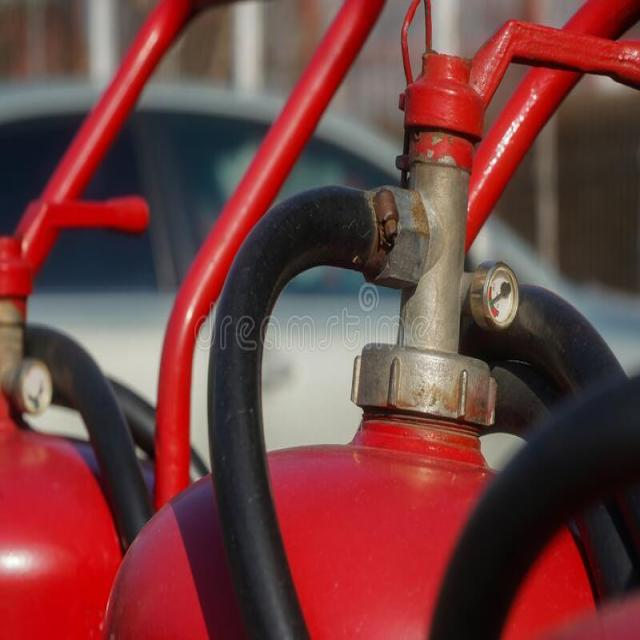fire_extinguisher: (93, 34, 620, 638), (0, 170, 160, 639)
